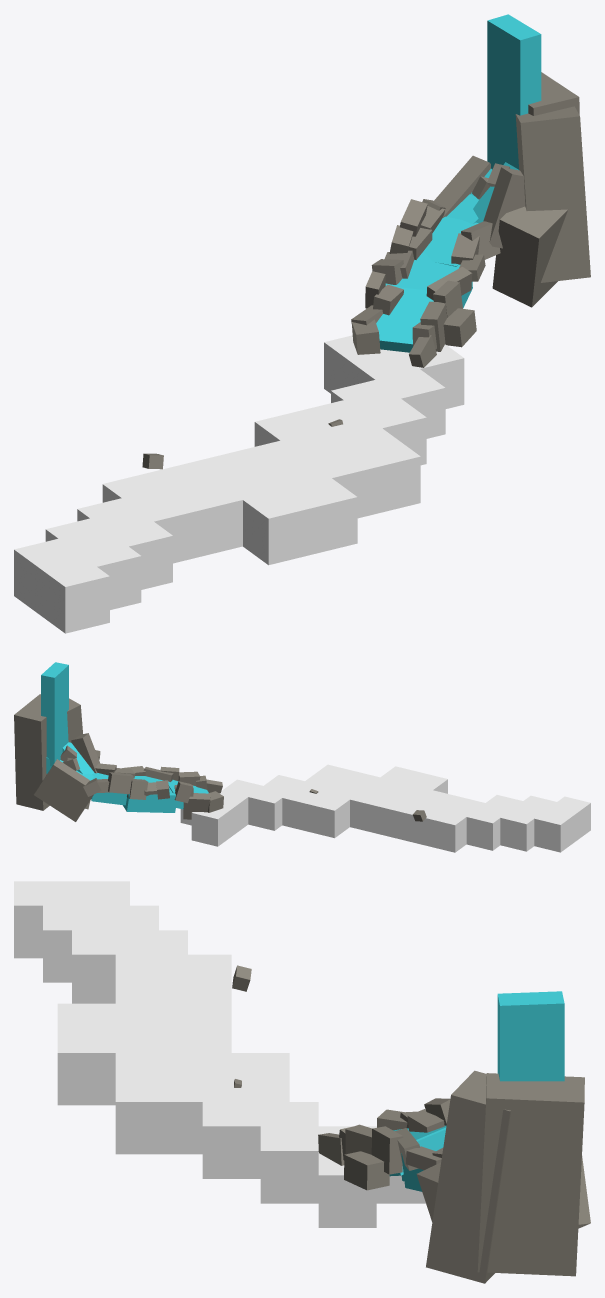
Rendered from p_CanyonWaterfall.fbx.
The picture shows the model from 3 angles, top to bottom: view 1: azimuth 30°, elevation 25°; view 2: azimuth 150°, elevation 25°; view 3: azimuth 270°, elevation 25°; orthographic projection. The views are drawn at different scales.
Visible parts, largest first — view 1: Floor_01__213_, Floor_01__49_, Floor_01__30__1, Floor_01__205_, Floor_01__50_, Floor_01__45_, Floor_01__48_, Floor_01__47_, Floor_01__46_, Floor_01__37_, Floor_01__39_, Floor_01__51_ (+16 smaller); view 2: Floor_01__214_, Floor_01__49_, Floor_01__30__1, Floor_01__62_, Floor_01__41_, Floor_01__46_, Floor_01__47_, Floor_01__48_, Floor_01__39_, Floor_01__43_, Floor_01__44_, Floor_01__42__1 (+18 smaller); view 3: Floor_01__214_, Floor_01__213_, Floor_01__30__1, Floor_01__39_, Floor_01__47_, Floor_01__37_, Floor_01__51_, Floor_01__53_, Floor_01__48_, Floor_01__42__1, Floor_01__49_, Floor_01__36_ (+15 smaller).
Part boxes in pixels (x1,y1,x2,y2): Floor_01__213_: (515, 106, 590, 282); Floor_01__49_: (14, 538, 109, 633); Floor_01__30__1: (487, 14, 541, 169); Floor_01__205_: (492, 206, 567, 307); Floor_01__50_: (243, 489, 312, 565); Floor_01__45_: (147, 462, 242, 557); Floor_01__48_: (45, 518, 141, 609); Floor_01__47_: (77, 498, 172, 589); Floor_01__46_: (102, 473, 198, 563); Floor_01__37_: (349, 350, 445, 438); Floor_01__39_: (331, 380, 426, 465); Floor_01__51_: (287, 478, 357, 554); Floor_01__214_: (14, 694, 49, 810); Floor_01__49_: (534, 796, 590, 852); Floor_01__30__1: (41, 662, 68, 766); Floor_01__62_: (34, 759, 93, 821); Floor_01__41_: (308, 782, 364, 838); Floor_01__46_: (429, 796, 484, 852); Floor_01__47_: (466, 795, 522, 850); Floor_01__48_: (500, 795, 556, 851); Floor_01__39_: (248, 775, 304, 830); Floor_01__43_: (350, 777, 406, 833); Floor_01__44_: (376, 784, 432, 839); Floor_01__42__1: (282, 775, 338, 831); Floor_01__214_: (477, 1073, 584, 1276); Floor_01__213_: (426, 1070, 510, 1283); Floor_01__30__1: (497, 991, 564, 1081); Floor_01__39_: (202, 1102, 318, 1178); Floor_01__47_: (72, 930, 187, 1003); Floor_01__37_: (260, 1126, 376, 1203); Floor_01__51_: (57, 1028, 115, 1105); Floor_01__53_: (115, 1077, 173, 1154); Floor_01__48_: (43, 905, 158, 982); Floor_01__42__1: (173, 1077, 289, 1154); Floor_01__49_: (14, 881, 129, 958); Floor_01__36_: (318, 1152, 376, 1227).
Bounding box in the file's own units: 3260 × 1174 × 1989.
